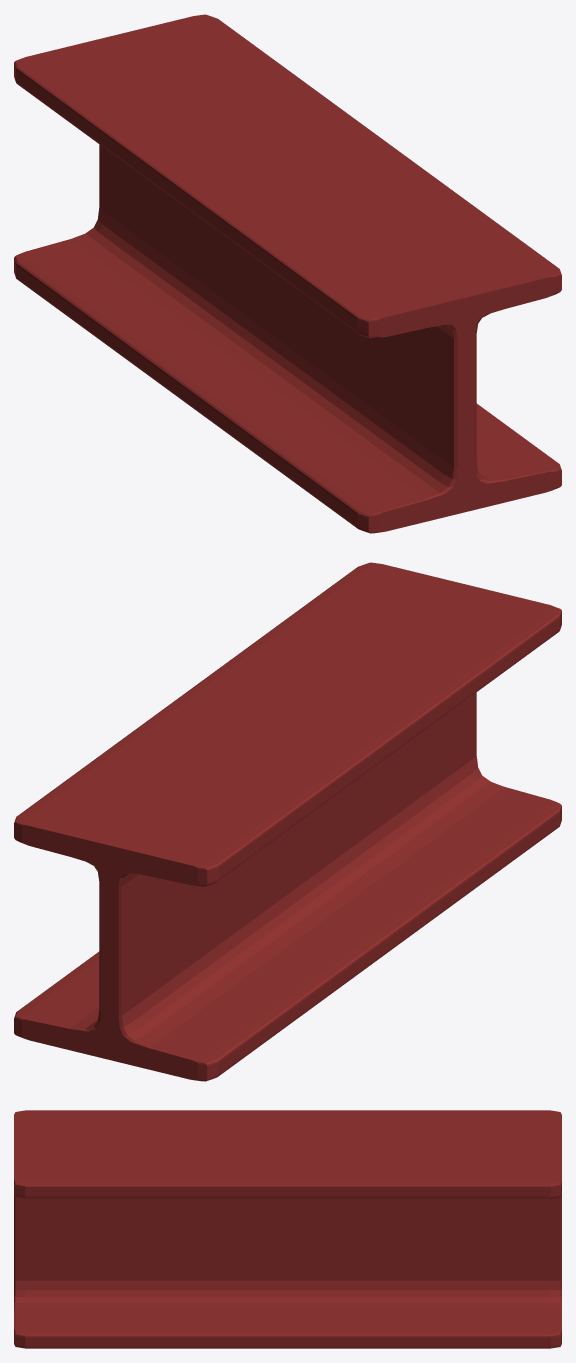
Rendered from steel_straight_3.fbx.
The picture shows the model from 3 angles, top to bottom: view 1: azimuth 30°, elevation 25°; view 2: azimuth 150°, elevation 25°; view 3: azimuth 270°, elevation 25°; orthographic projection. The views are drawn at different scales.
Parts seen in each view (by area): view 1: Cube; view 2: Cube; view 3: Cube.
Boxes of the visible parts, bbox=[...] form: Cube: bbox=[14, 14, 561, 533]; Cube: bbox=[14, 562, 561, 1081]; Cube: bbox=[14, 1110, 561, 1348].
Bounding box in the file's own units: 98.18 × 99.55 × 300.
